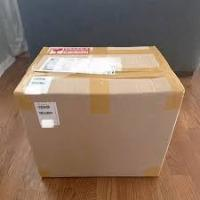undamaged: (12, 41, 185, 181)
